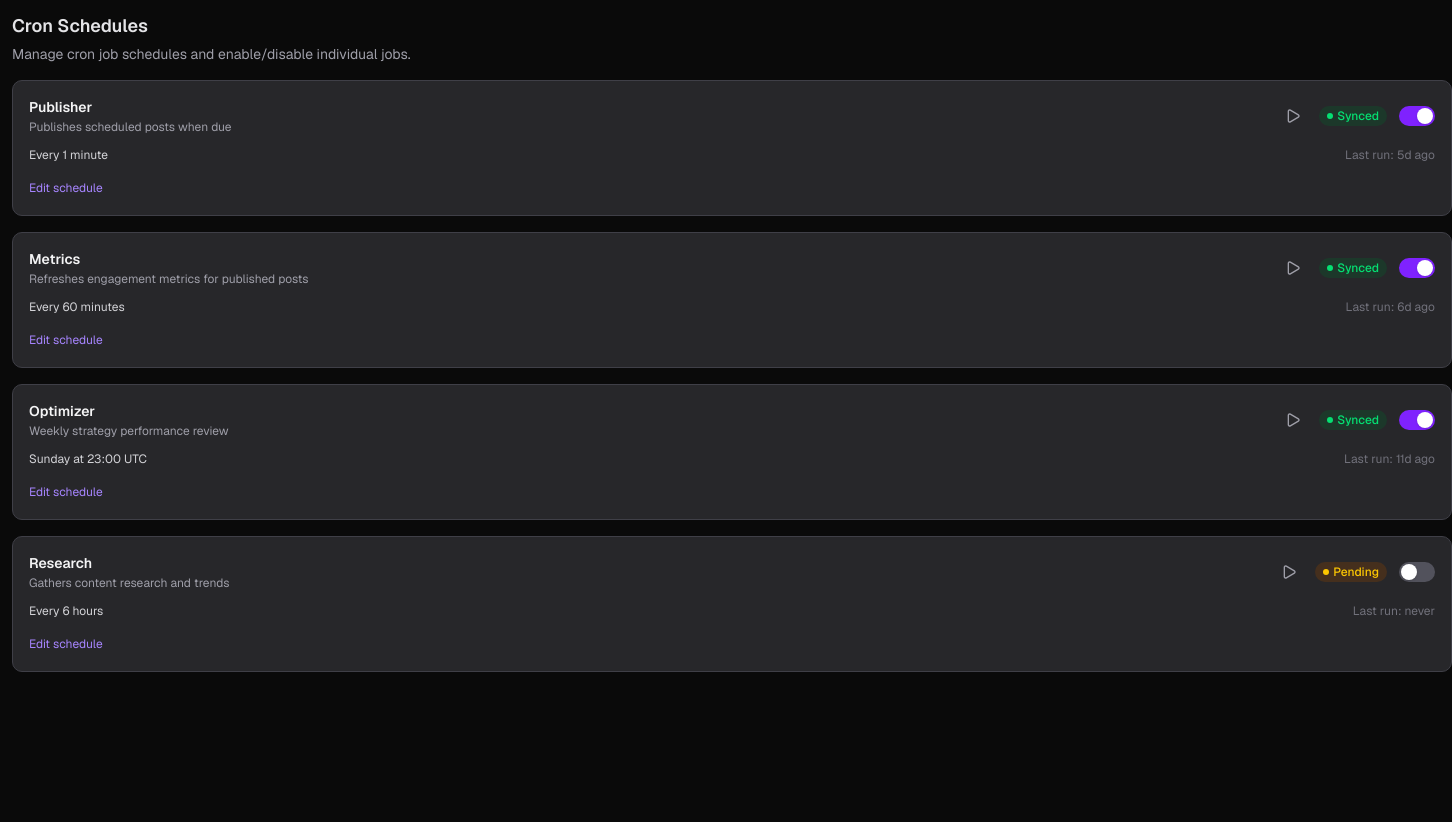
Test: CronScheduleManager › shows edit button and reveals schedule editor
Expected: the heading "Metrics" is shown, [29,250,80,268]
Click the button "Edit schedule" below "Every 60 minutes": [66, 340] box [29,332,103,348]
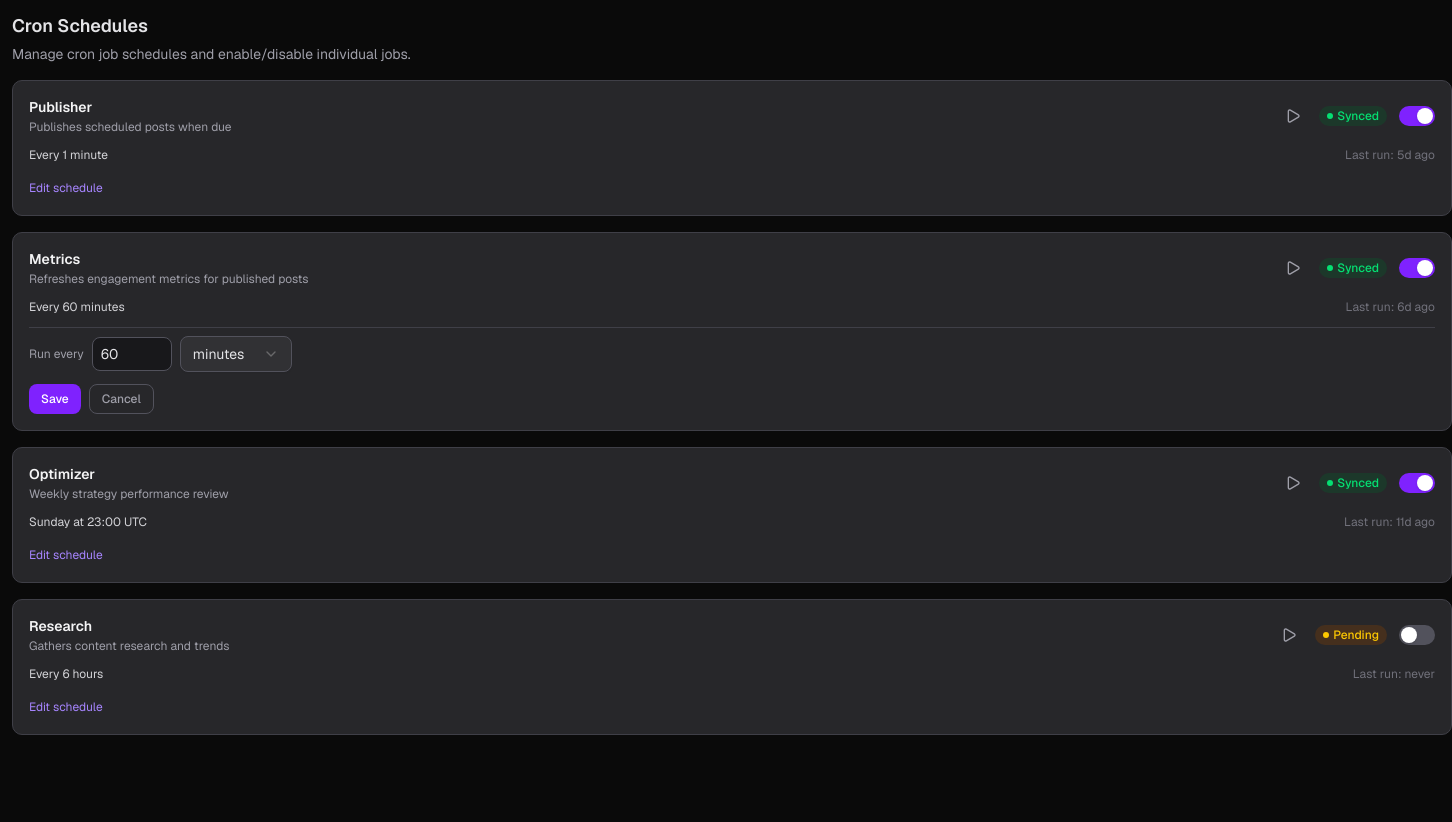
Expected: the button "Save" is shown, [29,384,81,414]
Expected: the button "Cancel" is shown, [89,384,154,414]
